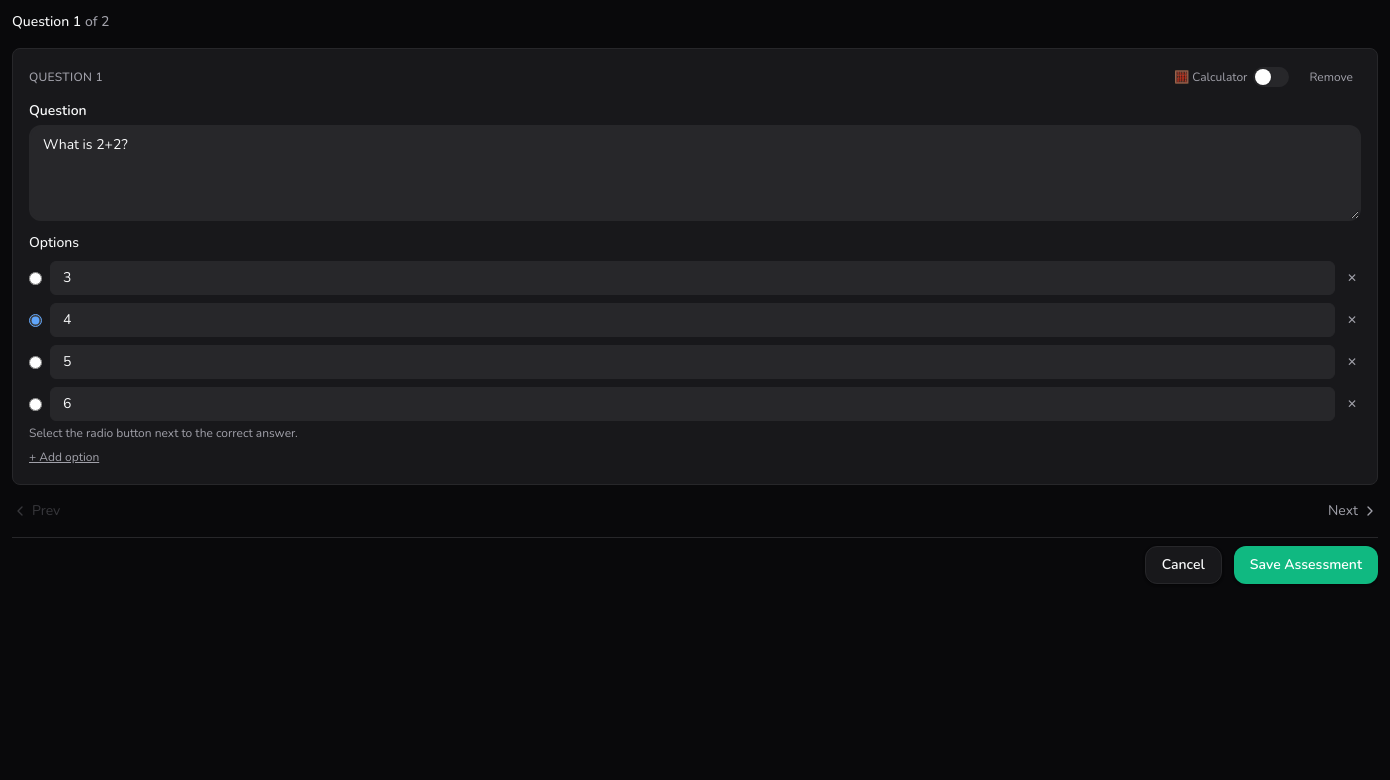
Test: AssessmentForm › navigates back to previous question when Prev is clicked
Click the button "Next" at [1353, 511], box x1=1328 y1=501 x2=1378 y2=521
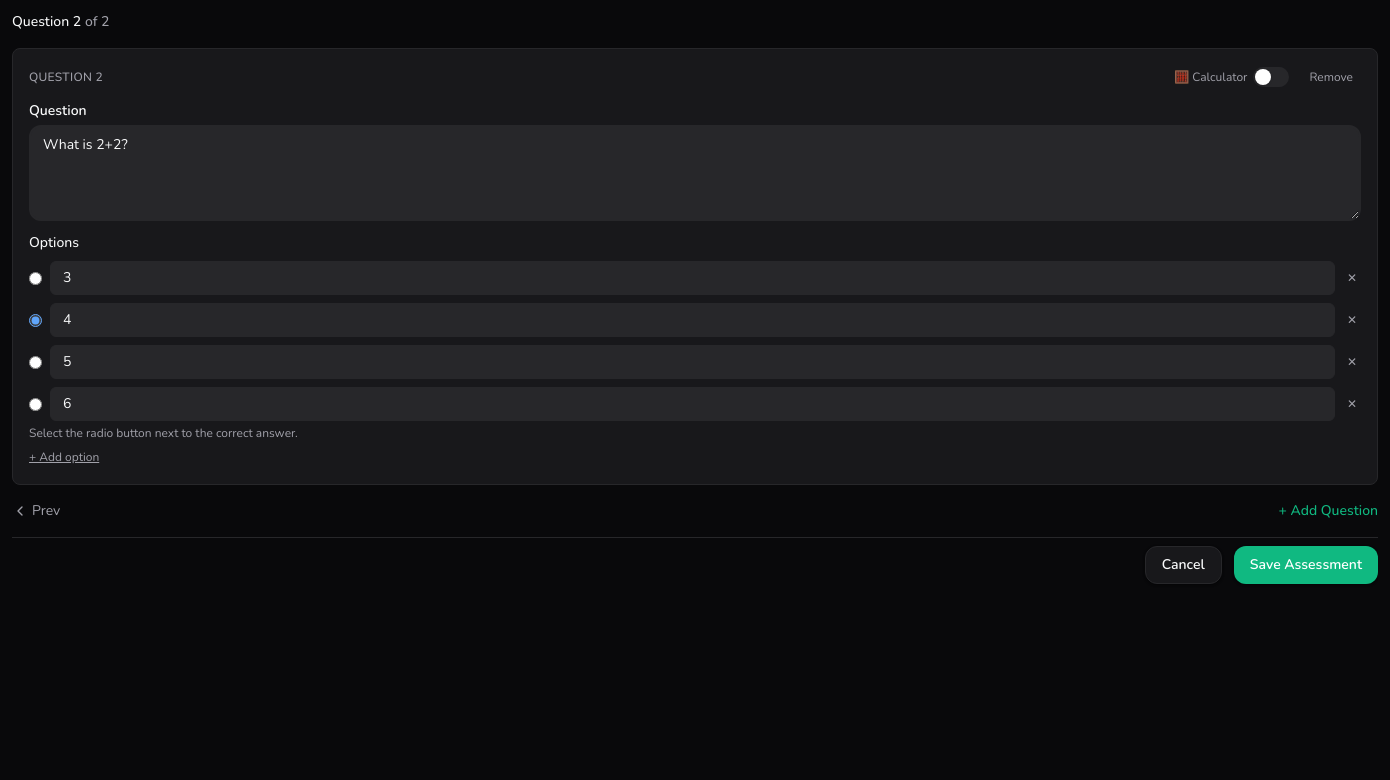
Click the button "Prev" at [36, 511], box x1=12 y1=501 x2=60 y2=521
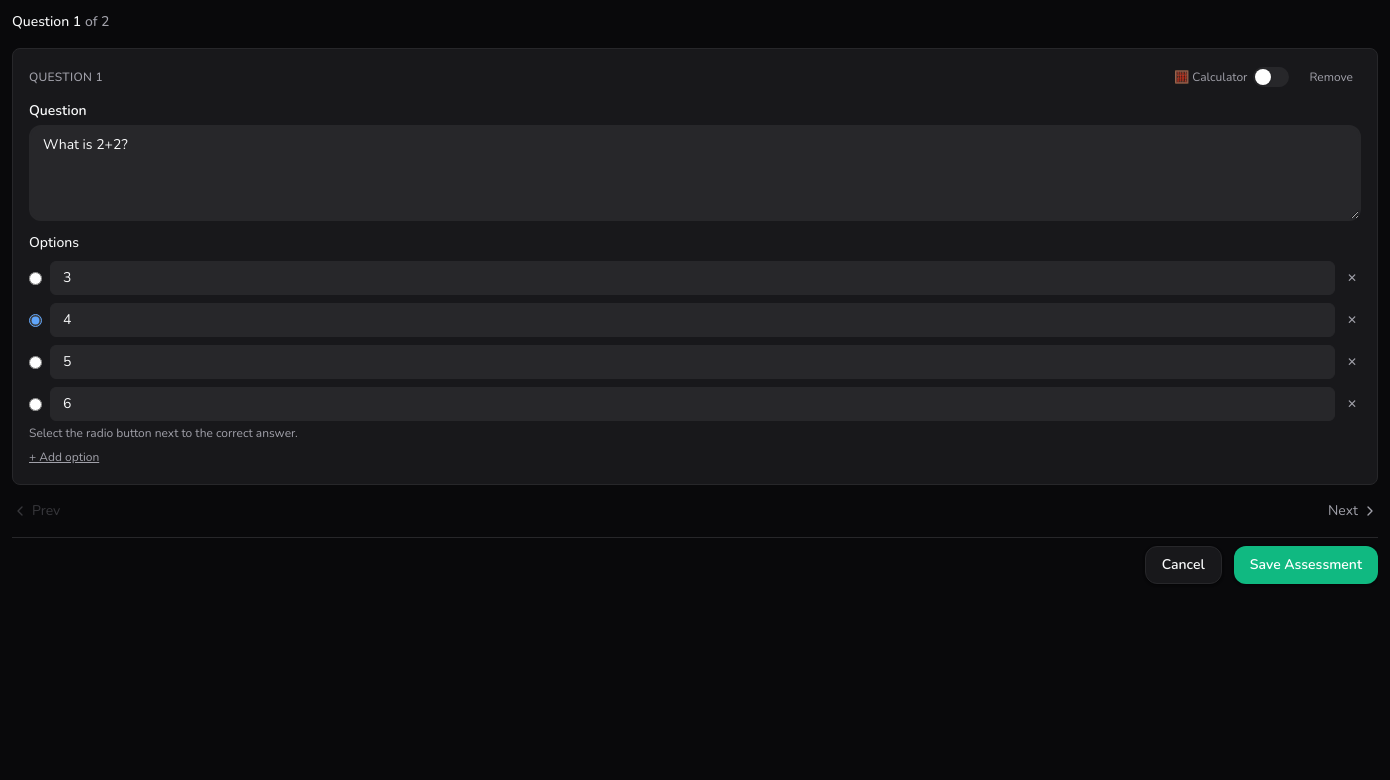
Now the button "Prev" is disabled, box x1=12 y1=501 x2=60 y2=521
Now the button "Next" is shown, box x1=1328 y1=501 x2=1378 y2=521
